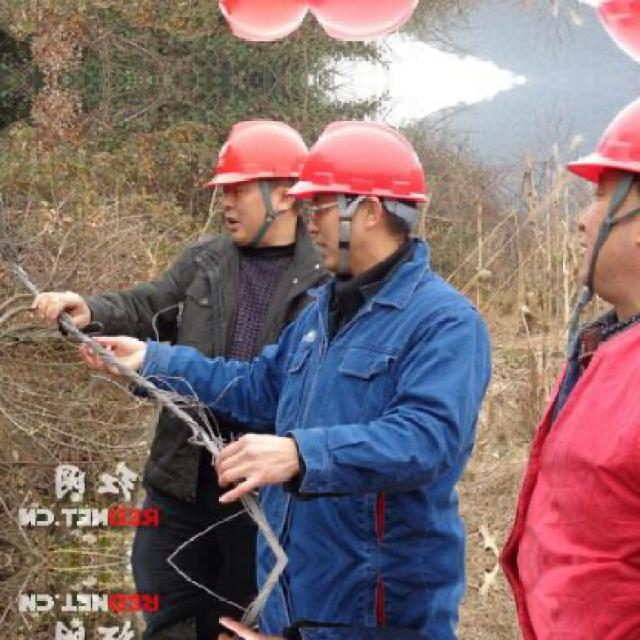helmet: (300, 109, 437, 283), (548, 92, 638, 332), (195, 109, 312, 254), (300, 0, 439, 52), (548, 0, 640, 69), (194, 0, 313, 52)
